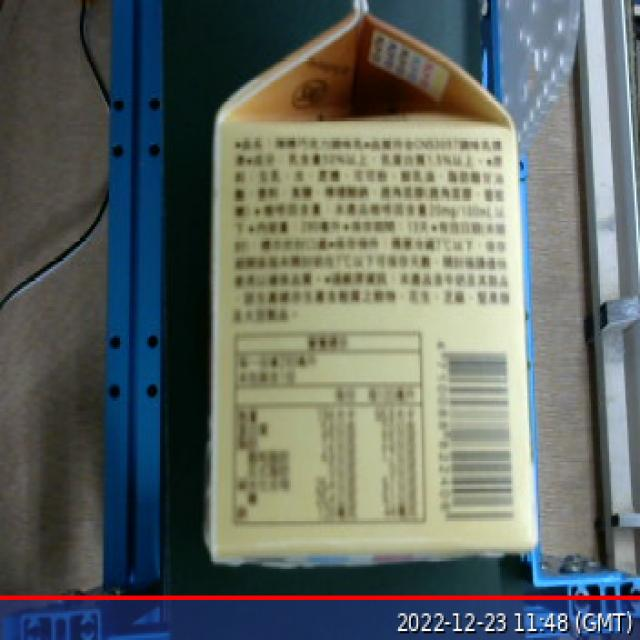non_white_jug: (189, 2, 544, 571)
